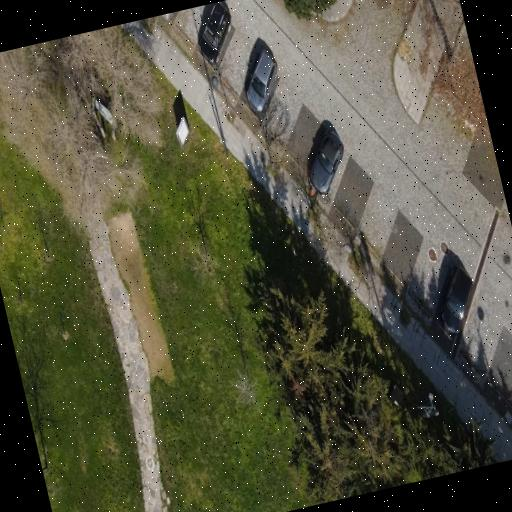car: (309, 129, 344, 195), (441, 266, 473, 334), (246, 49, 277, 113), (199, 2, 231, 63), (162, 13, 171, 19)
